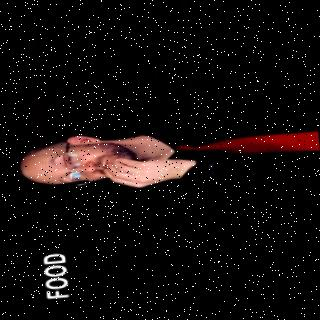Food: (15, 86, 320, 211)
